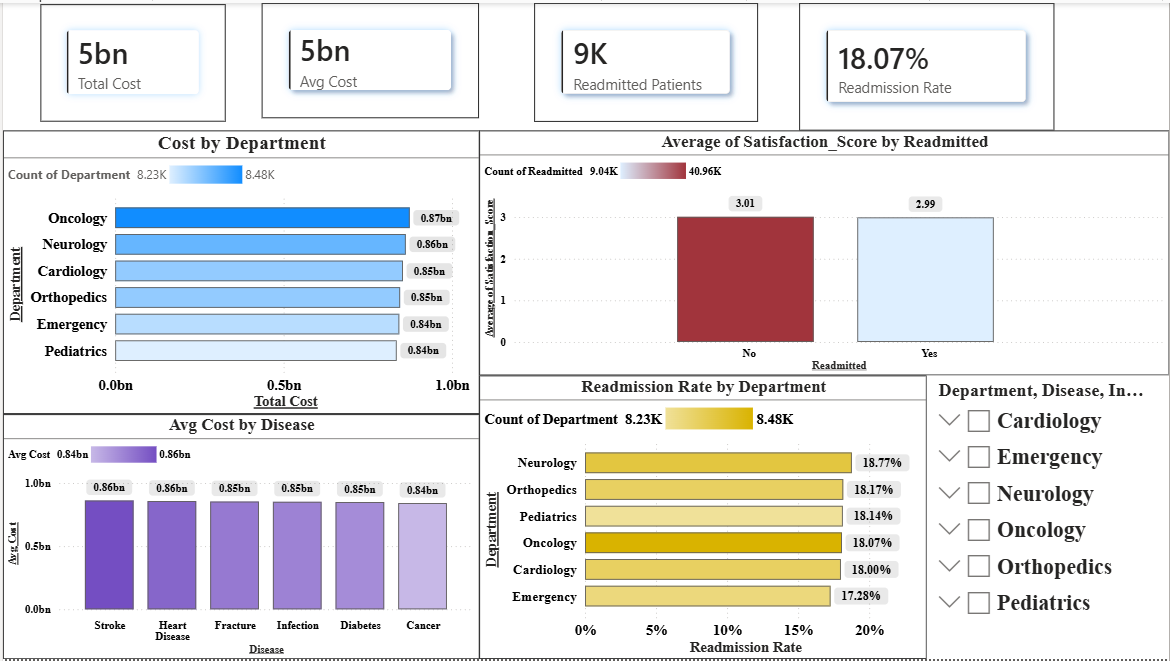

The dashboard page shown, as its layout file describes it:
{"tool":"powerbi","page":{"name":"Cost & Readmission Analysis","canvas":[1280,720],"ordinal":2},"visuals":[{"type":"clusteredBarChart","title":"Cost by Department","fields":{"Category":["Hospital_Patient_Dataset_50000.Department"],"Y":["Hospital_Patient_Dataset_50000.Total Cost"]},"box":[0,140,522.8,311.5],"z":0},{"type":"clusteredColumnChart","fields":{"Y":["Hospital_Patient_Dataset_50000.Avg Cost"],"Category":["Hospital_Patient_Dataset_50000.Disease"]},"box":[0,451.5,522.8,269],"z":1000},{"type":"clusteredBarChart","title":"Readmission Rate by Department","fields":{"Category":["Hospital_Patient_Dataset_50000.Department"],"Y":["Hospital_Patient_Dataset_50000.Readmission Rate"]},"box":[522.8,408.9,491.3,311.5],"z":2000},{"type":"columnChart","fields":{"Category":["Hospital_Patient_Dataset_50000.Readmitted"],"Y":["Avg(Hospital_Patient_Dataset_50000.Satisfaction_Score)"]},"box":[522.8,140,757.5,269],"z":3000},{"type":"slicer","fields":{"Values":["Hospital_Patient_Dataset_50000.Department","Hospital_Patient_Dataset_50000.Disease","Hospital_Patient_Dataset_50000.Insurance","Hospital_Patient_Dataset_50000.Doctor"]},"box":[1014.1,408.9,266.2,311.5],"z":4000},{"type":"cardVisual","fields":{"Data":["Hospital_Patient_Dataset_50000.Total Cost"]},"box":[41.2,1.4,203.1,129],"z":5000},{"type":"cardVisual","fields":{"Data":["Hospital_Patient_Dataset_50000.Avg Cost"]},"box":[284,0,238.8,126.2],"z":6000},{"type":"cardVisual","fields":{"Data":["Hospital_Patient_Dataset_50000.Readmitted Patients"]},"box":[583.2,0,245.6,130.4],"z":7000},{"type":"cardVisual","fields":{"Data":["Hospital_Patient_Dataset_50000.Readmission Rate"]},"box":[874.1,0,279.9,140],"z":8000}]}

Visuals, with their boxes in screenshot pixels (x1, y1, x2, y2), scaled from the page's 1280x720 canvas onto the 1170x661 screenshot:
"Cost by Department" clusteredBarChart: l=0, t=129, r=478, b=415
clusteredColumnChart - Hospital_Patient_Dataset_50000.Avg Cost x Hospital_Patient_Dataset_50000.Disease: l=0, t=415, r=478, b=660
"Readmission Rate by Department" clusteredBarChart: l=478, t=375, r=927, b=660
columnChart - Hospital_Patient_Dataset_50000.Readmitted x Avg(Hospital_Patient_Dataset_50000.Satisfaction_Score): l=478, t=129, r=1169, b=375
slicer - Hospital_Patient_Dataset_50000.Department x Hospital_Patient_Dataset_50000.Disease: l=927, t=375, r=1169, b=660
cardVisual - Hospital_Patient_Dataset_50000.Total Cost: l=38, t=1, r=223, b=120
cardVisual - Hospital_Patient_Dataset_50000.Avg Cost: l=260, t=0, r=478, b=116
cardVisual - Hospital_Patient_Dataset_50000.Readmitted Patients: l=533, t=0, r=758, b=120
cardVisual - Hospital_Patient_Dataset_50000.Readmission Rate: l=799, t=0, r=1055, b=129
